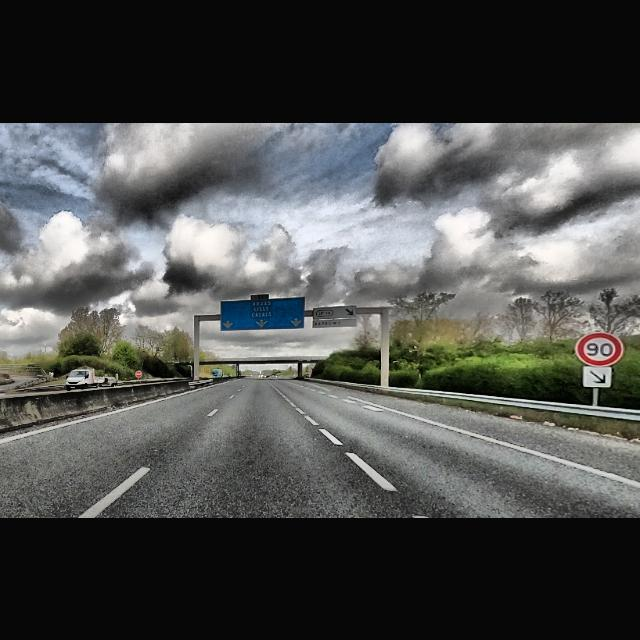speed_90: (578, 333, 622, 365)
